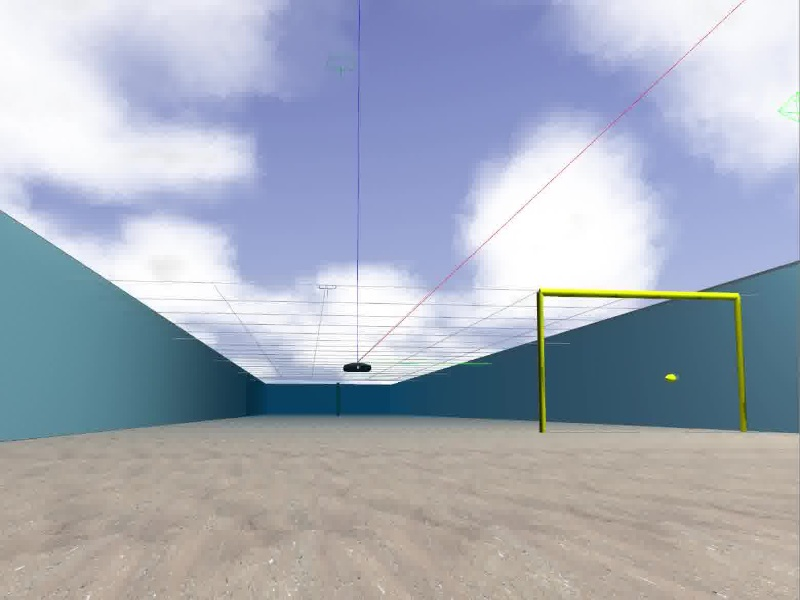gate: (536, 288, 749, 435)
